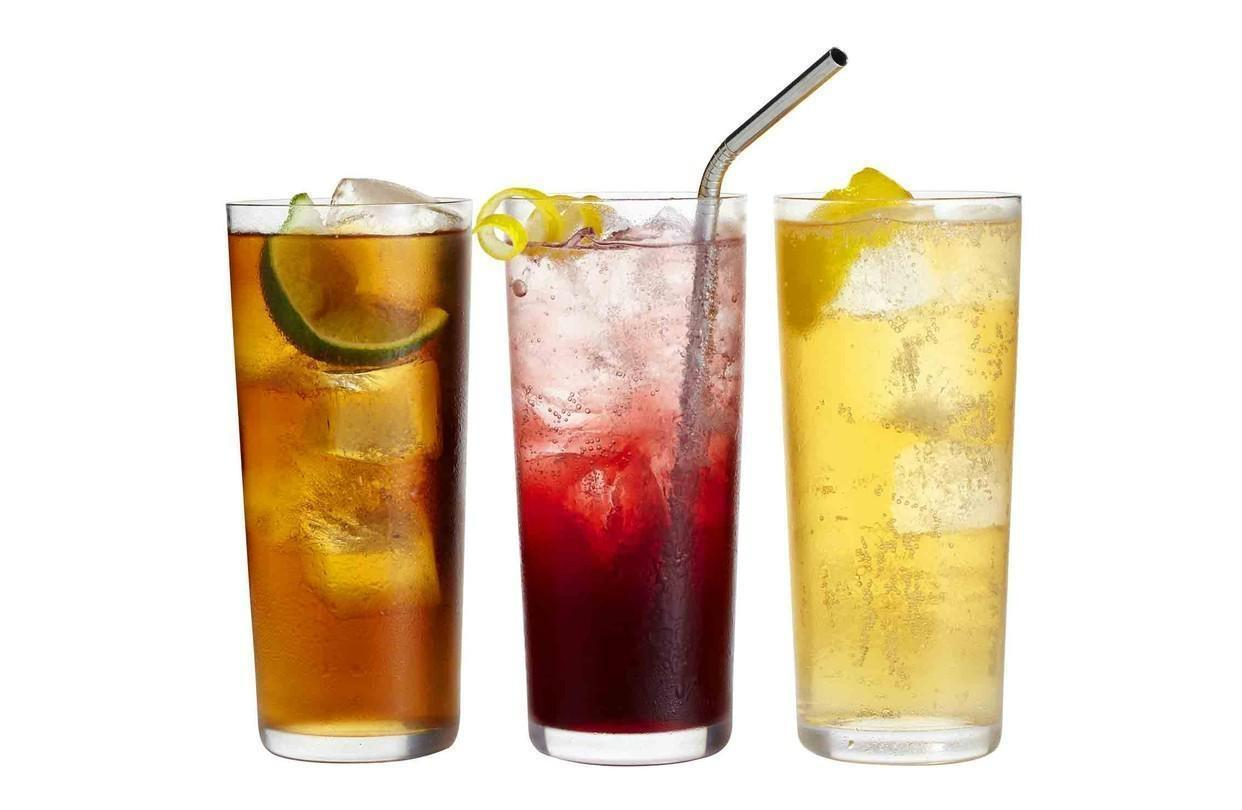glass-normal: (768, 182, 1030, 768), (218, 189, 480, 764), (497, 186, 756, 767)
